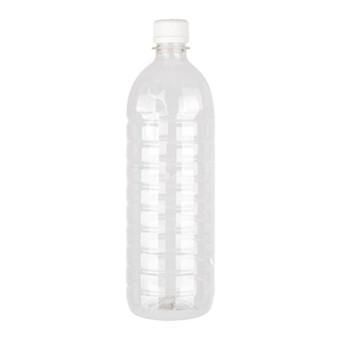bottle: (125, 20, 219, 320)
